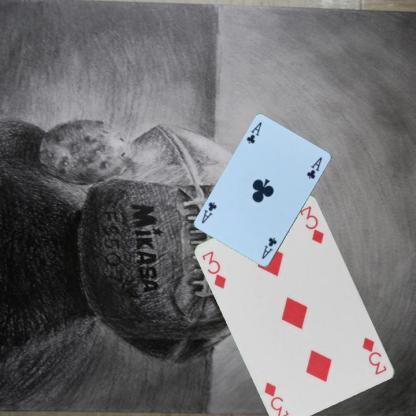3d: (199, 248, 228, 290), (360, 334, 388, 376)
Ac: (244, 119, 263, 146), (260, 235, 278, 261)
